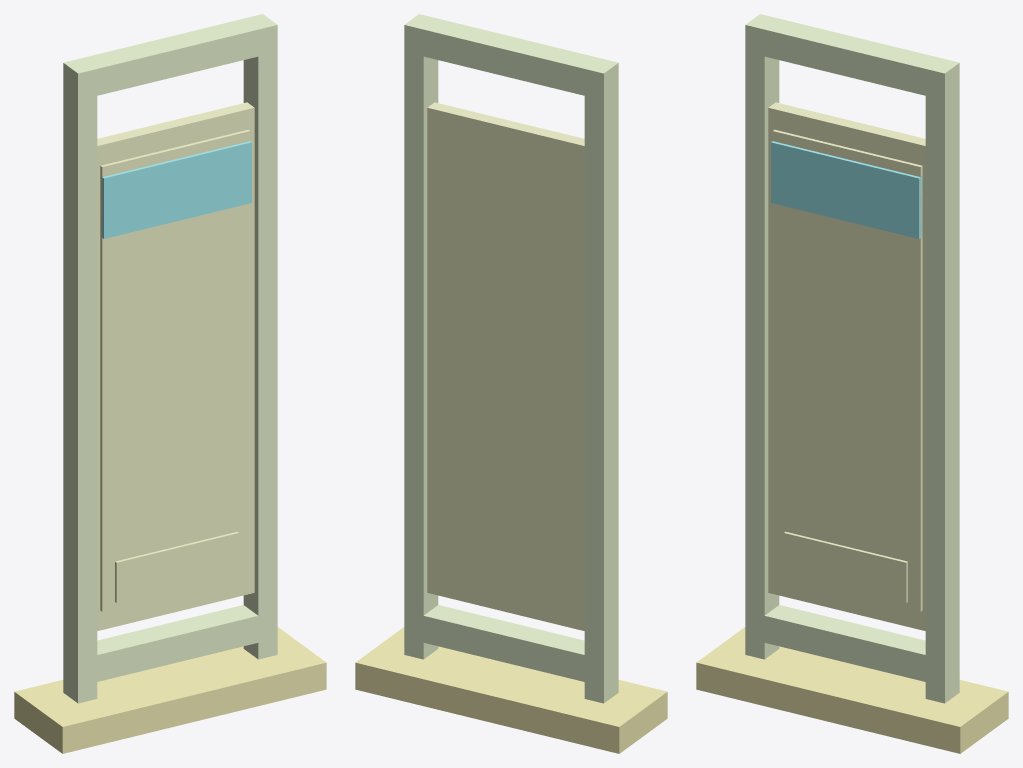
File: furniture_shelter_ad_panel.glb
The picture shows the model from 3 angles, left to right: view 1: azimuth 30°, elevation 25°; view 2: azimuth 150°, elevation 25°; view 3: azimuth 330°, elevation 25°; orthographic projection.
Parts seen in each view (by area): view 1: poster_face, frame_left, base, frame_right, ad_body, ad_header, frame_top, frame_bottom, ad_footer; view 2: ad_body, frame_left, base, frame_right, frame_top, frame_bottom; view 3: poster_face, frame_right, base, frame_left, ad_body, ad_header, frame_top, frame_bottom, ad_footer.
Boxes of the visible parts, <box> form: poster_face: <box>100,129,250,611</box>; frame_left: <box>63,80,97,703</box>; base: <box>14,627,326,753</box>; frame_right: <box>243,42,277,659</box>; ad_body: <box>97,102,254,630</box>; ad_header: <box>100,141,251,238</box>; frame_top: <box>63,14,277,100</box>; frame_bottom: <box>63,605,277,686</box>; ad_footer: <box>115,531,238,602</box>; ad_body: <box>427,102,584,630</box>; frame_left: <box>584,80,618,703</box>; base: <box>355,627,667,753</box>; frame_right: <box>404,42,438,659</box>; frame_top: <box>404,14,618,100</box>; frame_bottom: <box>404,605,618,686</box>; poster_face: <box>772,129,922,611</box>; frame_right: <box>925,80,959,703</box>; base: <box>696,627,1008,753</box>; frame_left: <box>745,42,779,659</box>; ad_body: <box>768,102,925,630</box>; ad_header: <box>771,141,922,238</box>; frame_top: <box>745,14,959,100</box>; frame_bottom: <box>745,605,959,686</box>; ad_footer: <box>784,531,907,602</box>.
Size of the model in its own units: 0.82 by 1.96 by 0.26.
